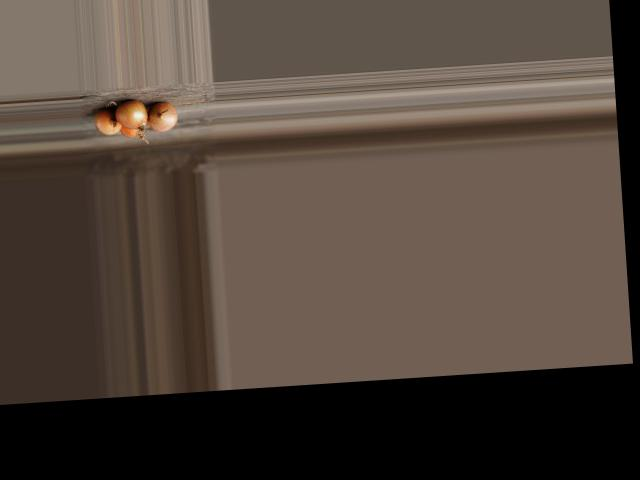onion: (116, 116, 144, 139)
